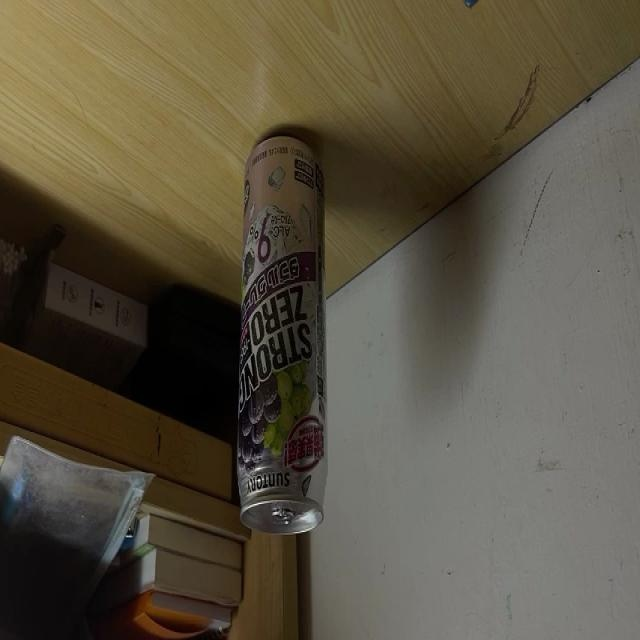Liquor: (237, 134, 328, 536)
